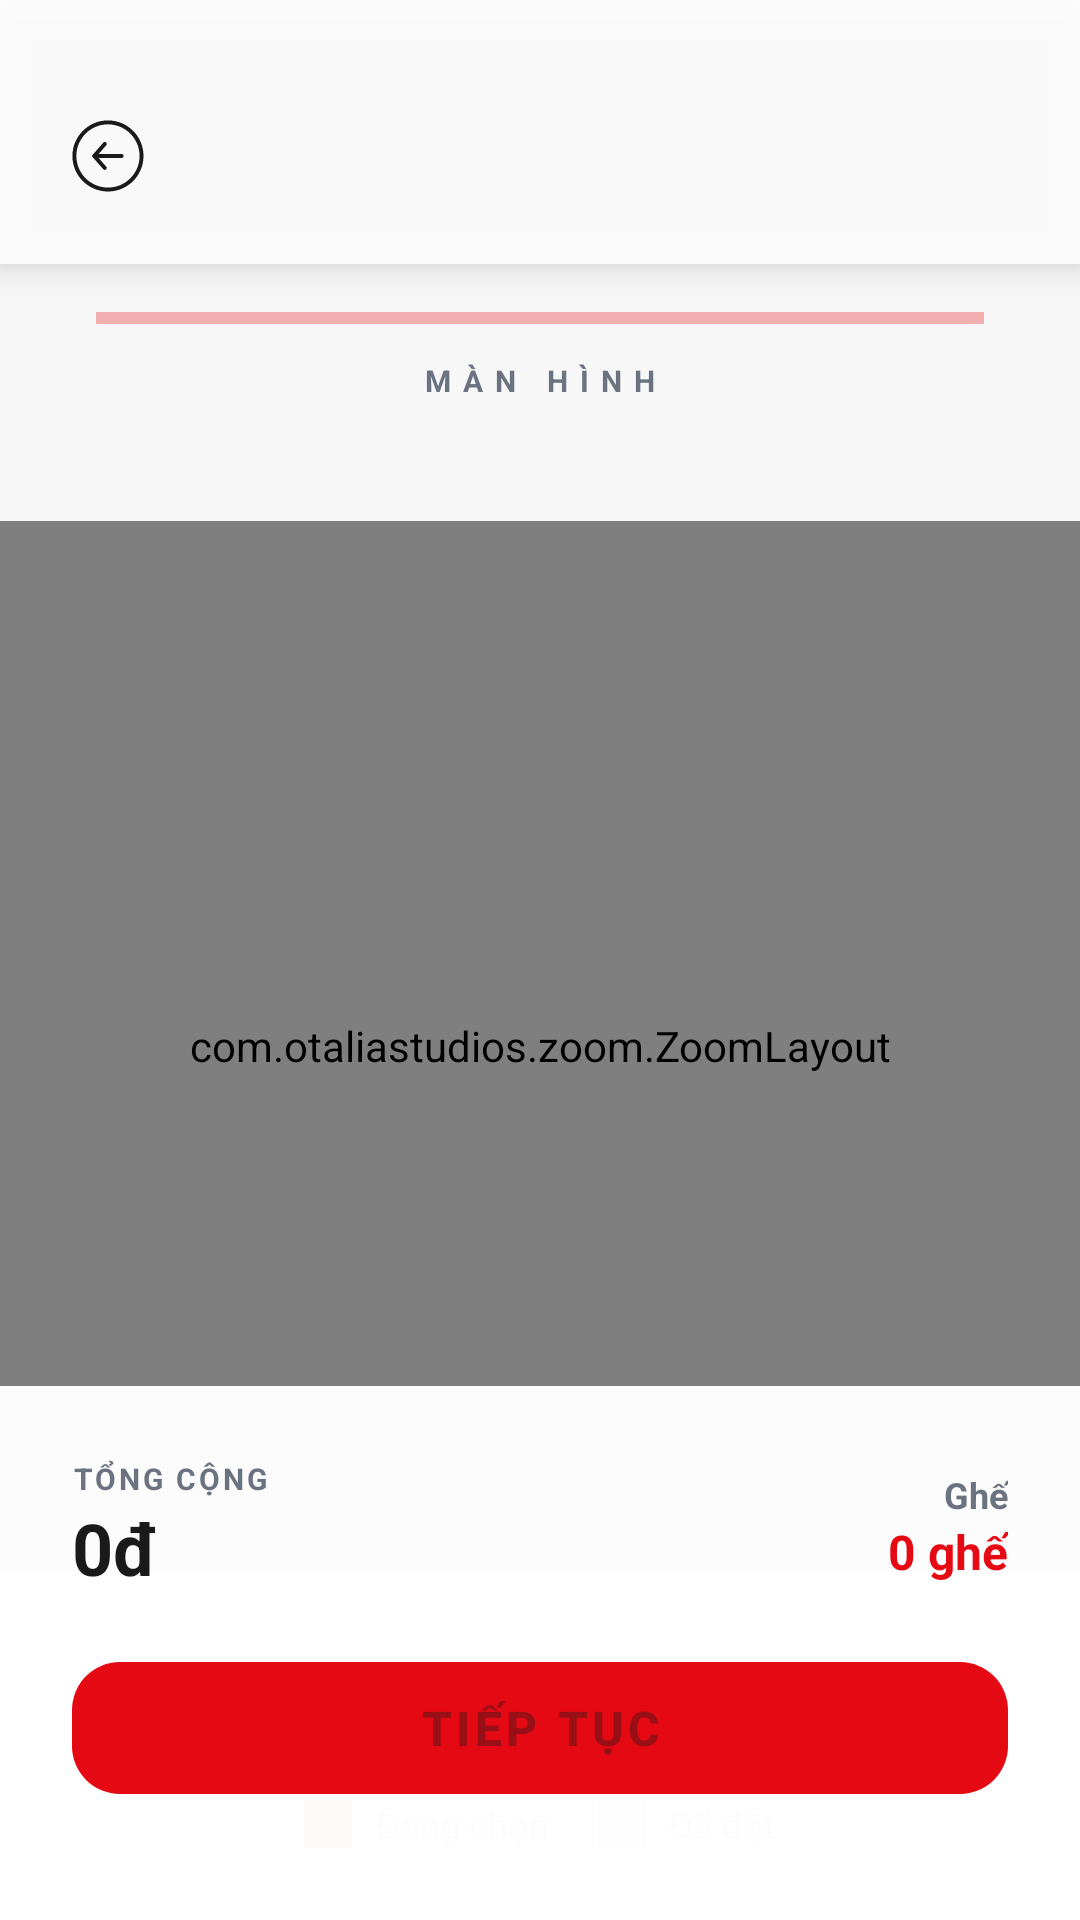

Named icons in this screenshot (1080 × 1920) and their bounding boxes, (x1=x1, y1=y1, x2=x2, y2=y2):
back: (x1=72, y1=120, x2=144, y2=192)
